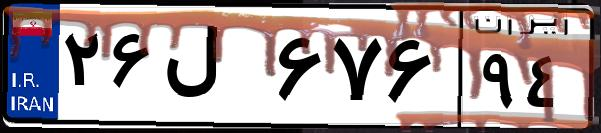2: (57, 26, 110, 100)
4: (525, 38, 570, 115)
6: (270, 28, 330, 110), (385, 28, 445, 110), (110, 28, 158, 98)
7: (330, 28, 385, 110)
9: (475, 38, 525, 113)
ل: (158, 20, 270, 120)
